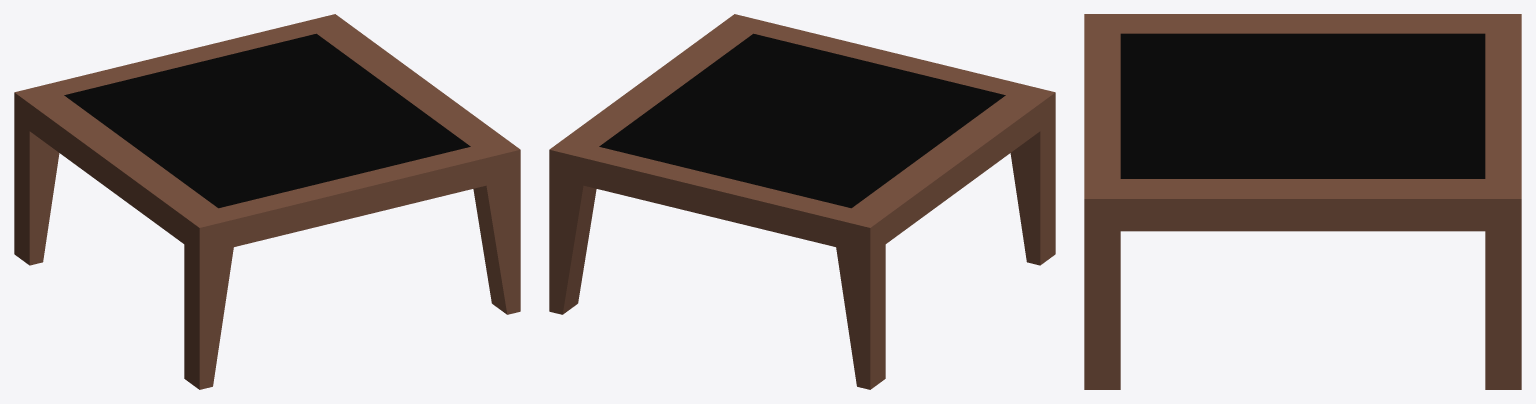
The model's file is Small_Short_Table.fbx.
3 views of the same model, side by side, from view 1: azimuth 30°, elevation 25°; view 2: azimuth 150°, elevation 25°; view 3: azimuth 270°, elevation 25° (orthographic). The views are drawn at different scales.
Parts seen in each view (by area): view 1: Small_Short_Table; view 2: Small_Short_Table; view 3: Small_Short_Table.
Part boxes in pixels (box(x1,y1,x2,y2)): Small_Short_Table: box(14, 14, 520, 389); Small_Short_Table: box(549, 14, 1055, 389); Small_Short_Table: box(1084, 14, 1521, 389).
Bounding box in the file's own units: 1 × 0.4821 × 1.
